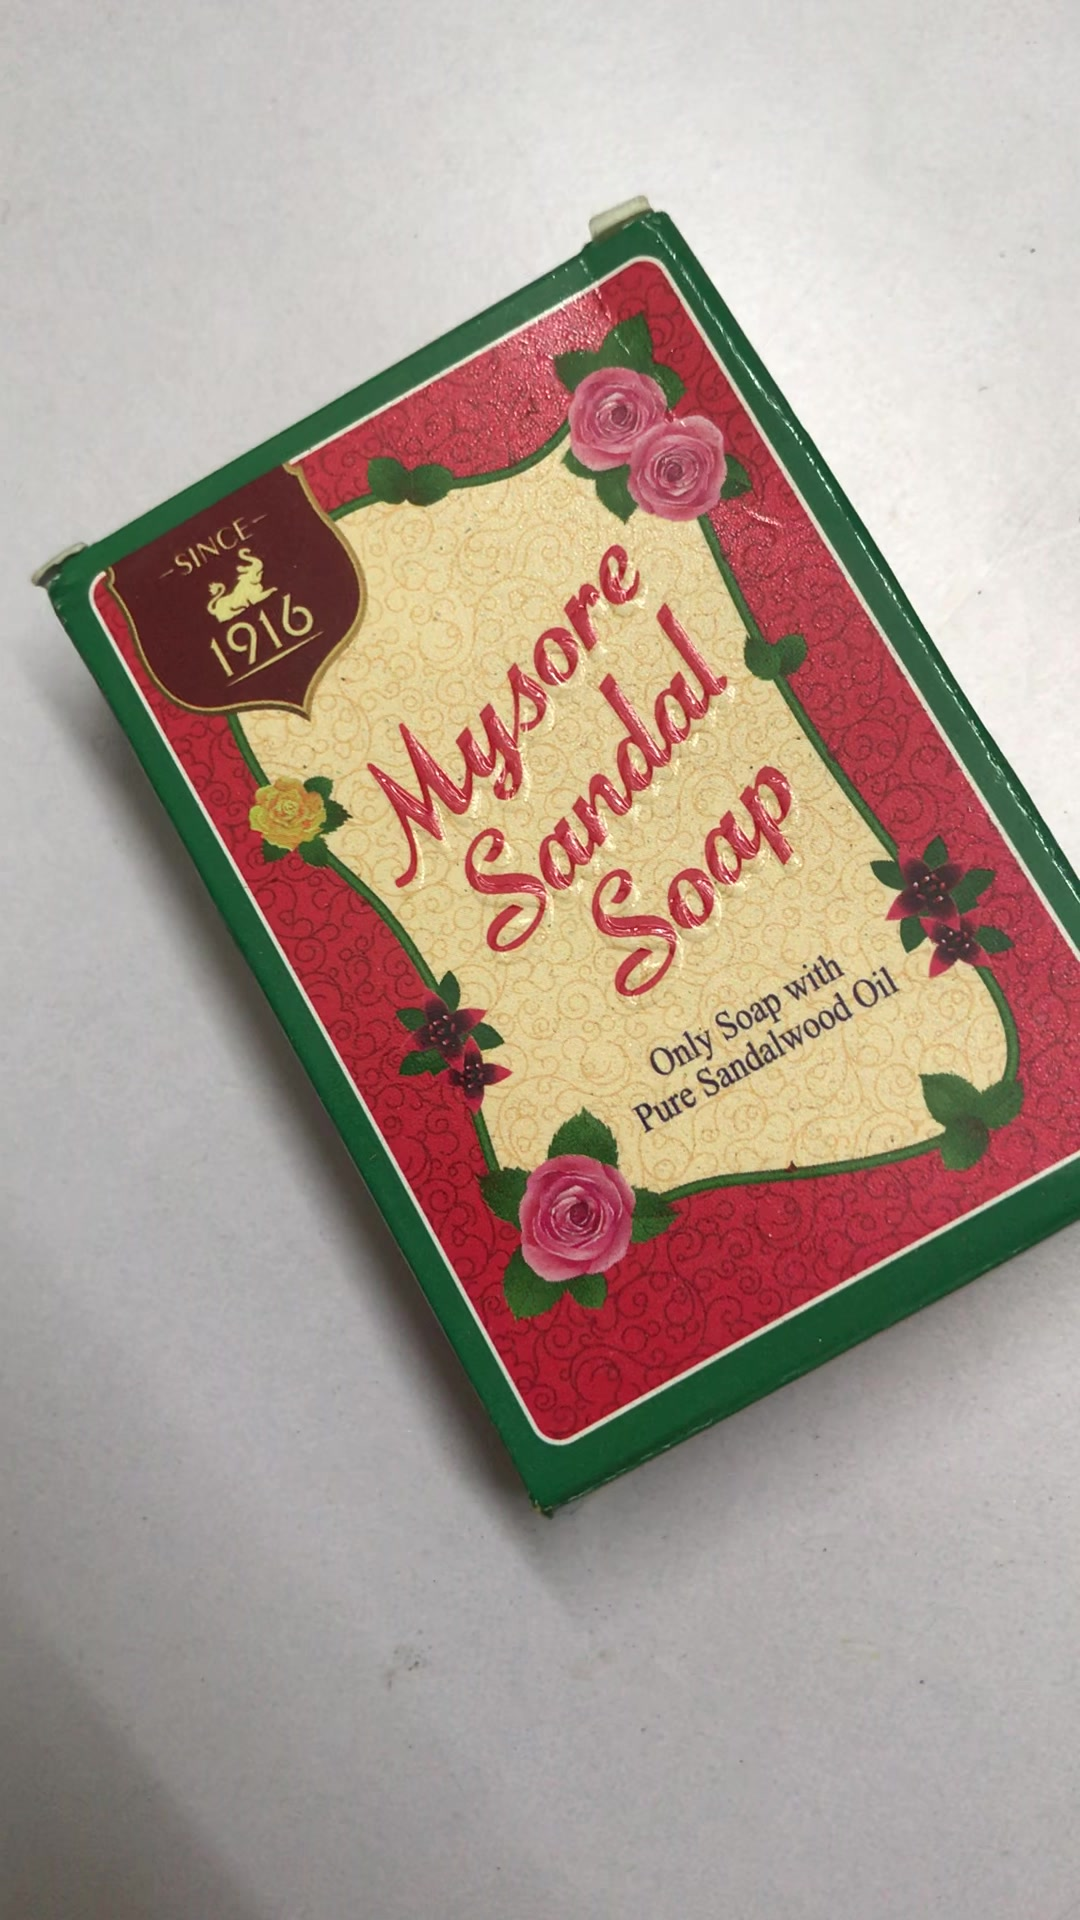mysore sandal soap: (36, 218, 1080, 1509)
